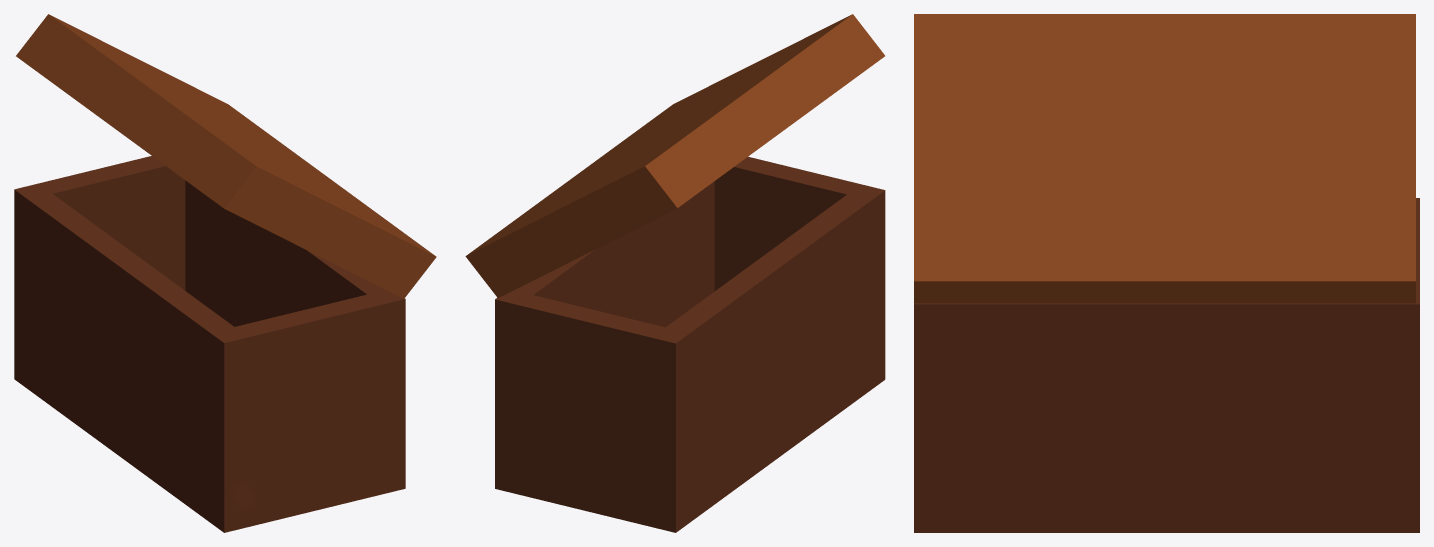
File: bauq.glb
3 renders of one model, left to right at view 1: azimuth 30°, elevation 25°; view 2: azimuth 150°, elevation 25°; view 3: azimuth 270°, elevation 25°, orthographic. The views are drawn at different scales.
Bounding box in the file's own units: 2.34 × 3.78 × 4.01.
1 material, 1 textured.
